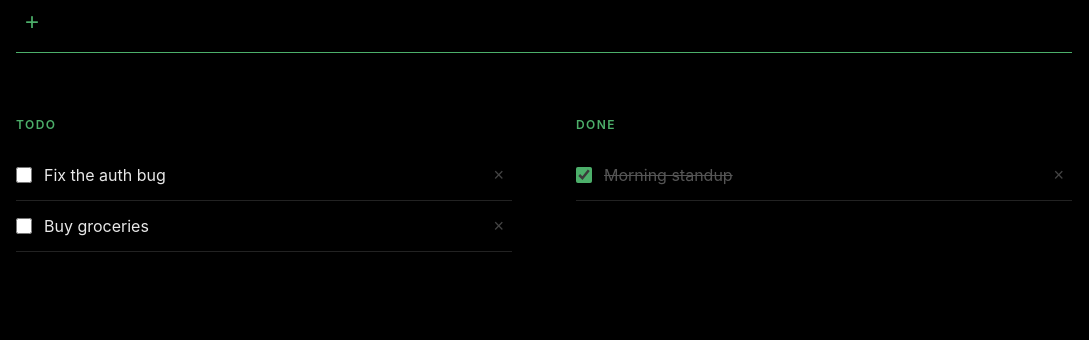
Test: completing and deleting a todo › returns only the toggled row to its column and surfaces the message
The image size is (1089, 340).
Check: the list named "TODO" is shown, box [16,150,512,252]
Click the checkbox named "Mark incomplete" at point(584, 175), box [576,167,592,183]
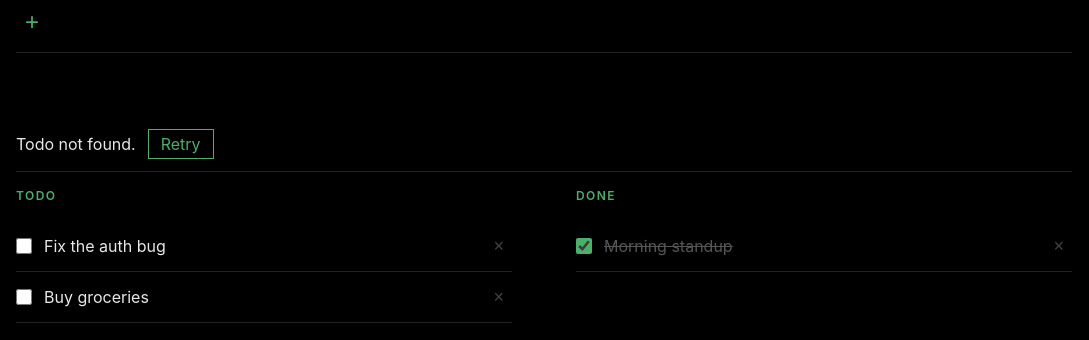
Check: the message shows "Todo not found.", box [16,134,136,154]
Check: the button "Retry" is enabled, box [148,129,214,159]
Click the checkbox named "Mark incomplete" at point(584, 246), box [576,238,592,254]
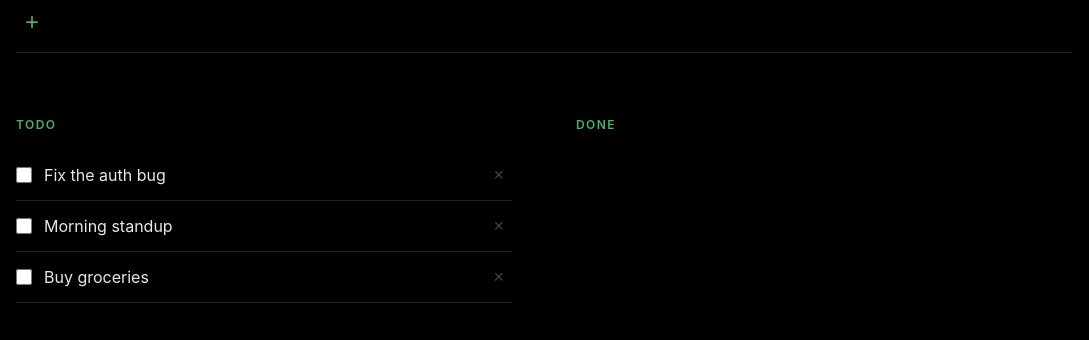
Check: the message "Todo not found. Retry" is gone
